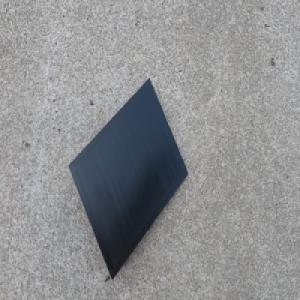PlasticPart: (67, 77, 189, 281)
